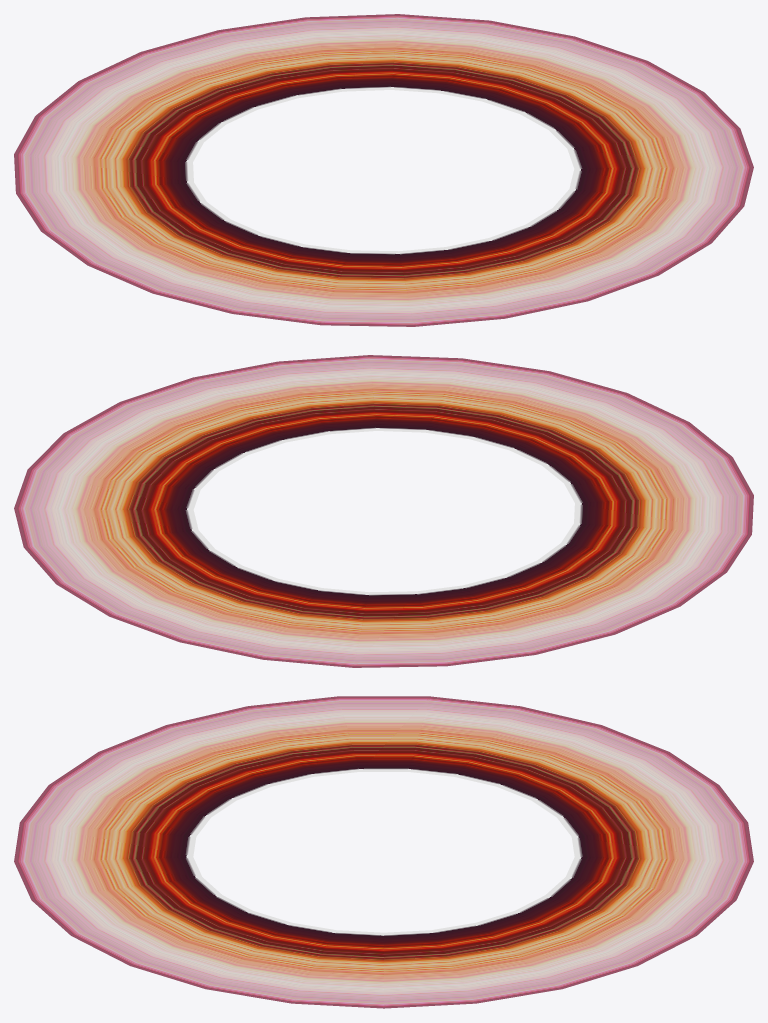
The model's file is motion planet.fbx.
The picture shows the model from 3 angles, top to bottom: view 1: azimuth 30°, elevation 25°; view 2: azimuth 150°, elevation 25°; view 3: azimuth 270°, elevation 25°; orthographic projection.
Visible parts, largest first — view 1: Motionplanet; view 2: Motionplanet; view 3: Motionplanet.
Boxes of the visible parts, x1,y1,x2,y2 form: Motionplanet: [14, 14, 753, 326]; Motionplanet: [14, 355, 753, 667]; Motionplanet: [14, 696, 753, 1008].
Bounding box in the file's own units: 503 × 504 × 3.2e-14.
1 material, 1 textured.
